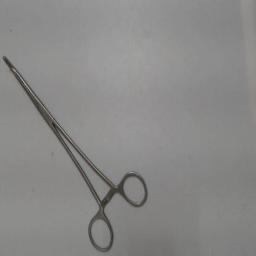Lahey Forceps: (0, 51, 152, 255)
